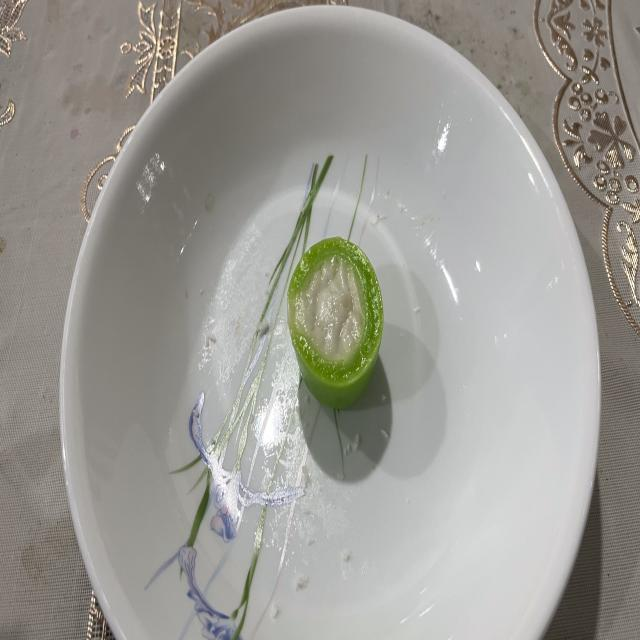nona-manis: (288, 238, 384, 409)
